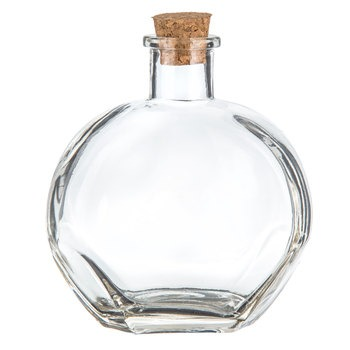container: (40, 10, 310, 339)
